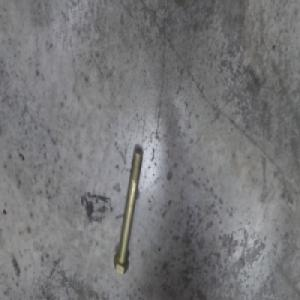Bolt: (114, 149, 145, 272)
